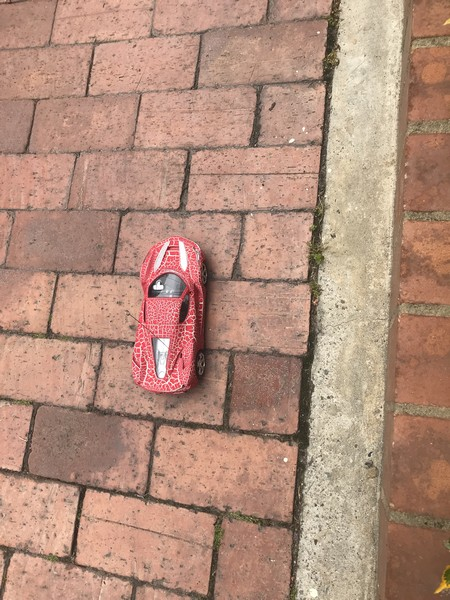RC: (129, 236, 211, 397)
